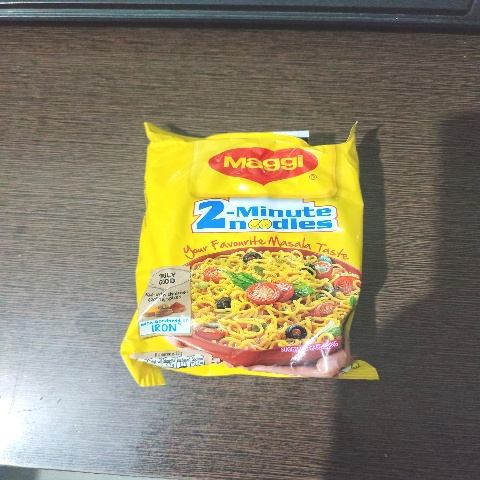maggi: (87, 92, 414, 442)
